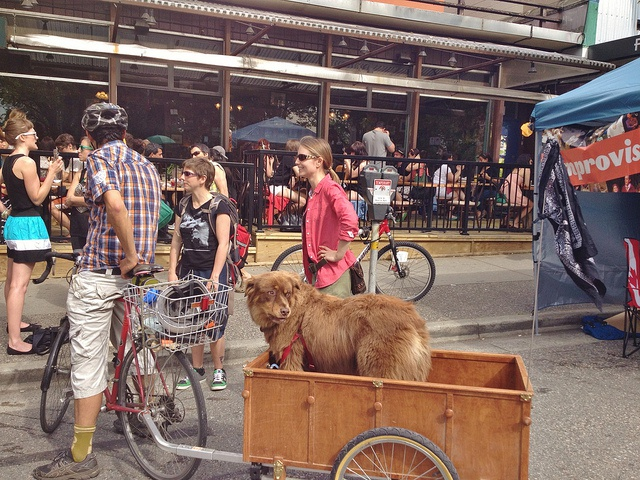non-vehicle: (39, 273, 454, 474), (270, 216, 437, 301)
